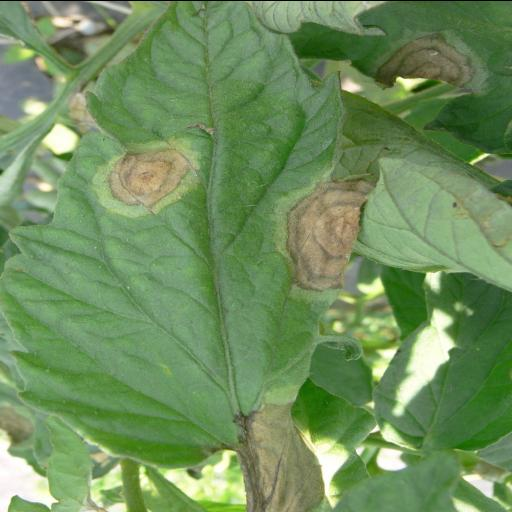Late Blight: (2, 4, 372, 504)
